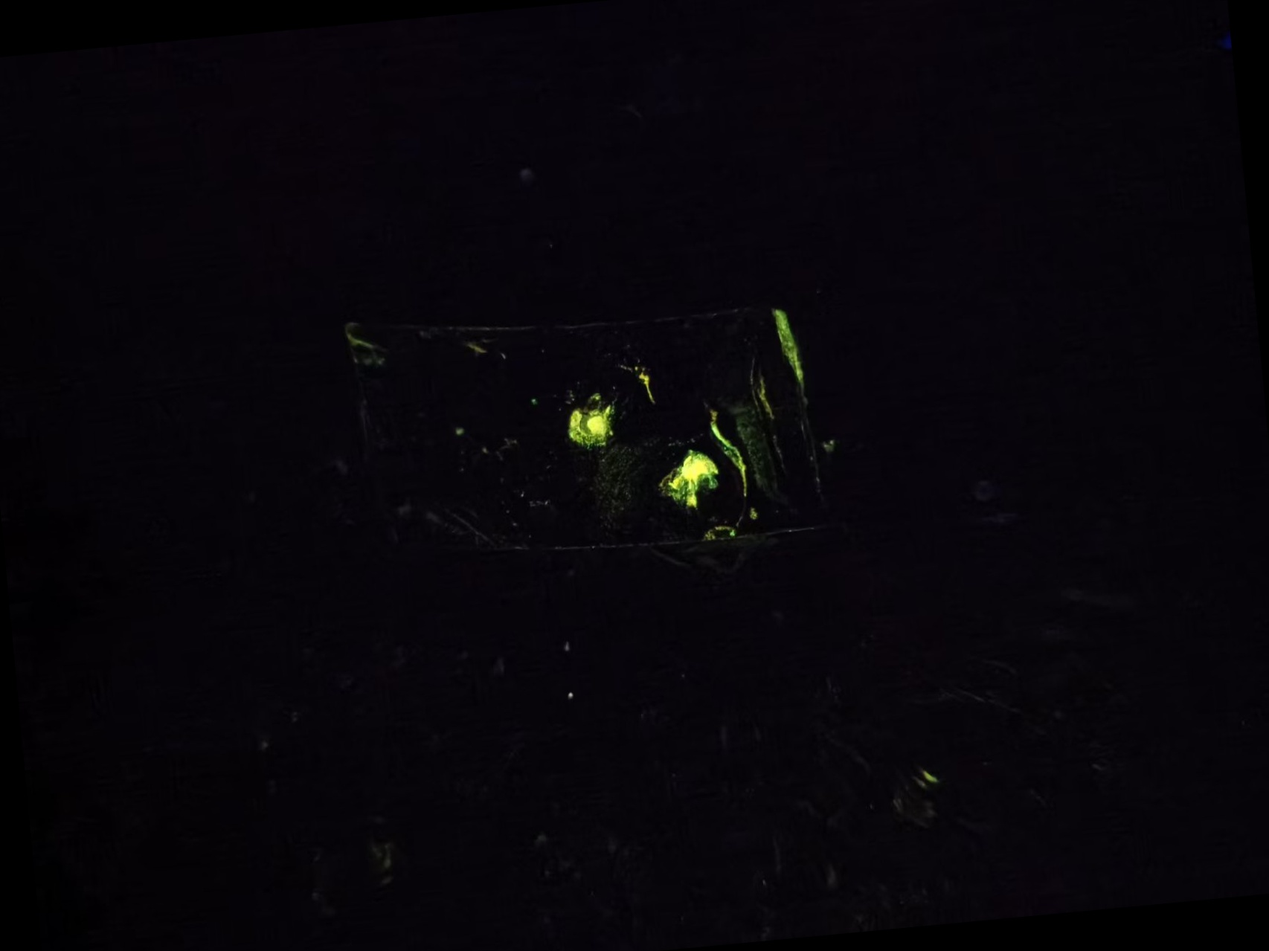Crater: (634, 421, 759, 532), (534, 369, 643, 472)
